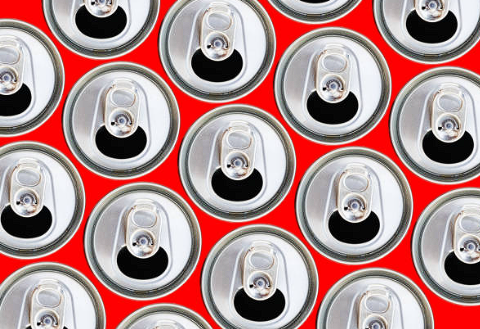Danificado: (88, 183, 207, 296), (274, 24, 390, 138), (61, 67, 177, 177), (178, 113, 295, 222), (300, 148, 411, 261), (386, 59, 480, 182), (206, 223, 310, 329), (163, 0, 267, 99), (0, 148, 85, 262), (415, 189, 480, 303), (0, 24, 59, 131), (44, 0, 149, 57), (375, 0, 476, 58)
